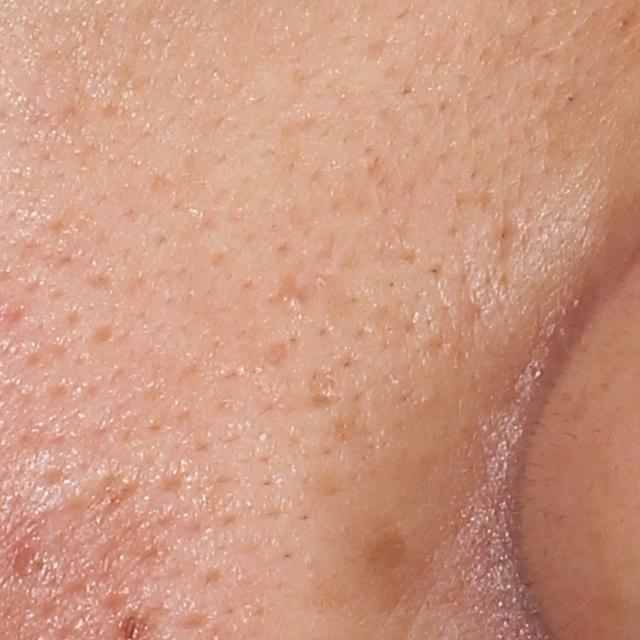atrophic_scar: (265, 270, 315, 312), (261, 339, 288, 371)
